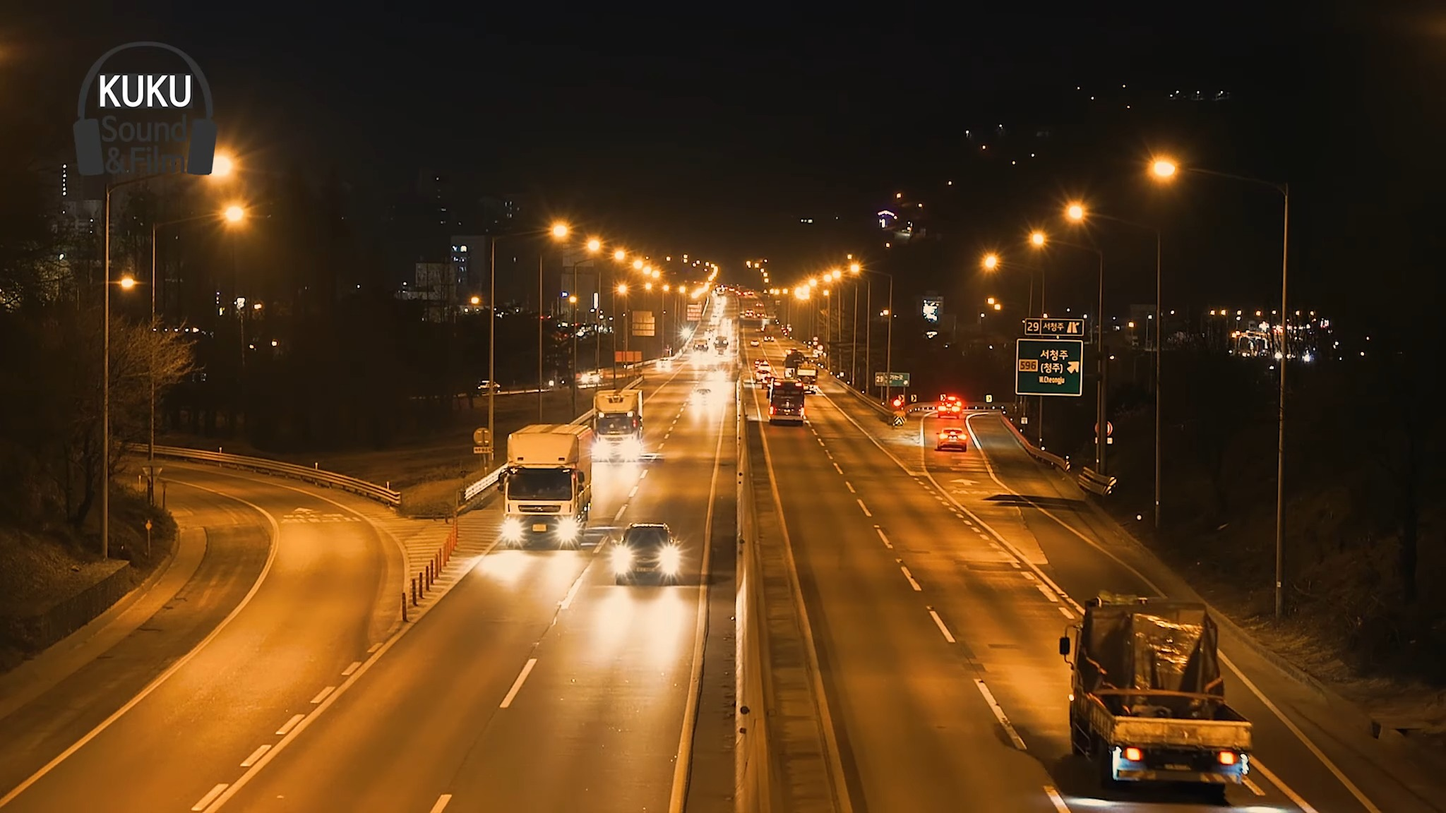car: (609, 523, 678, 590)
truck: (1072, 590, 1258, 803), (502, 422, 598, 548), (586, 387, 650, 468)
